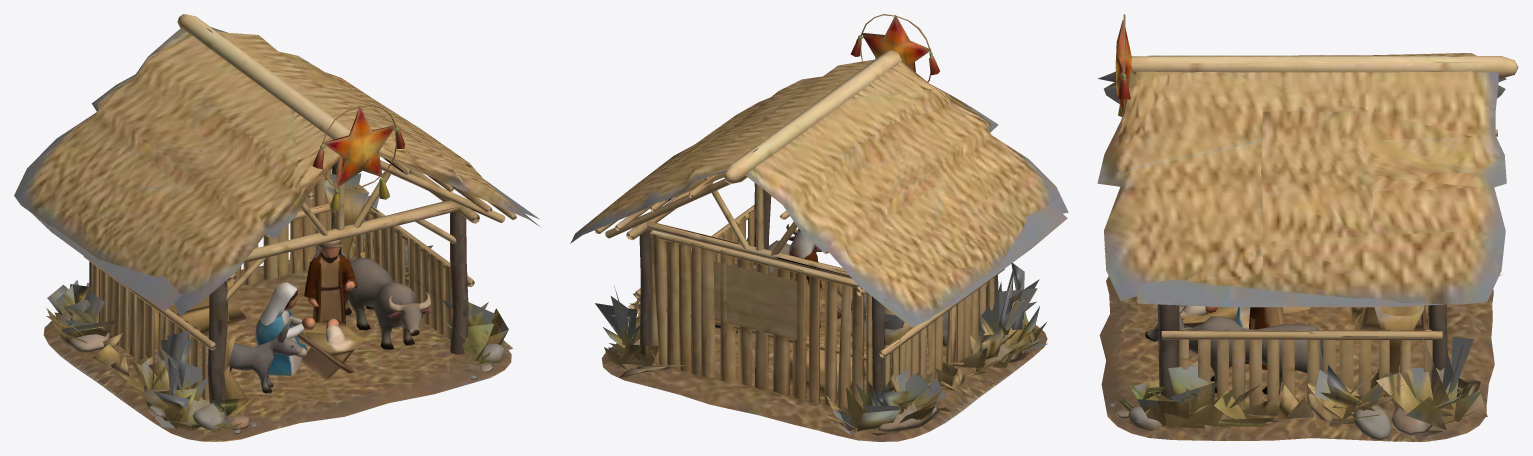
The model's file is belen.glb.
3 renders of one model, left to right at view 1: azimuth 30°, elevation 25°; view 2: azimuth 150°, elevation 25°; view 3: azimuth 270°, elevation 25°, orthographic. The views are drawn at different scales.
Parts seen in each view (by area): view 1: geometry_0; view 2: geometry_0; view 3: geometry_0.
Part boxes in pixels (x1,y1,x2,y2): geometry_0: (14,14,539,441); geometry_0: (570,14,1068,441); geometry_0: (1097,14,1518,441).
Bounding box in the file's own units: 0.9497 × 0.7124 × 0.8223.
1 material, 1 textured.
